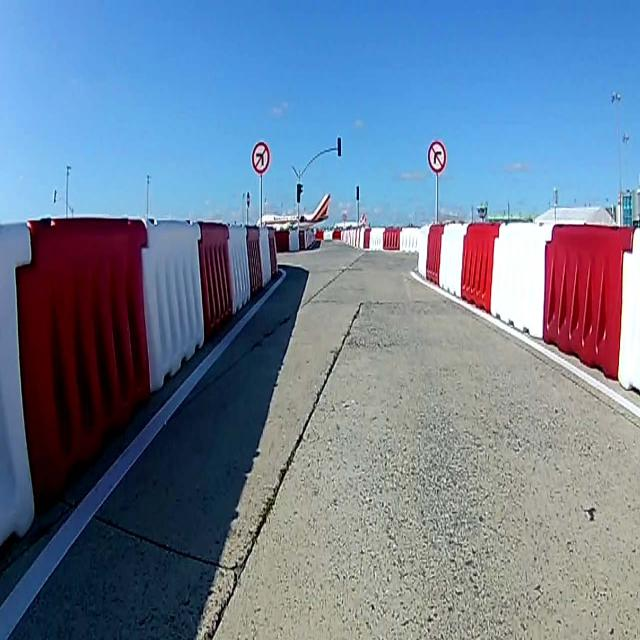sagadonulmez: (428, 140, 446, 172)
soladonulmez: (252, 142, 269, 174)
